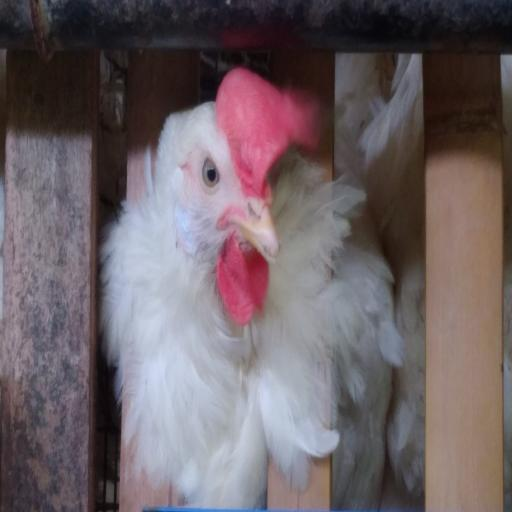healthy: (176, 82, 276, 316)
